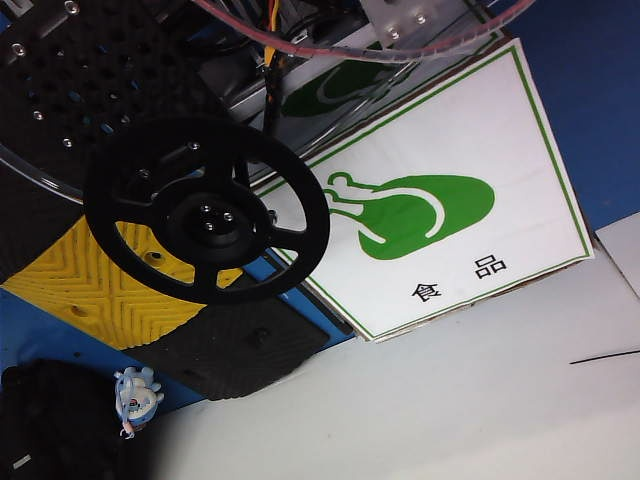Cube_food: (317, 162, 516, 306)
